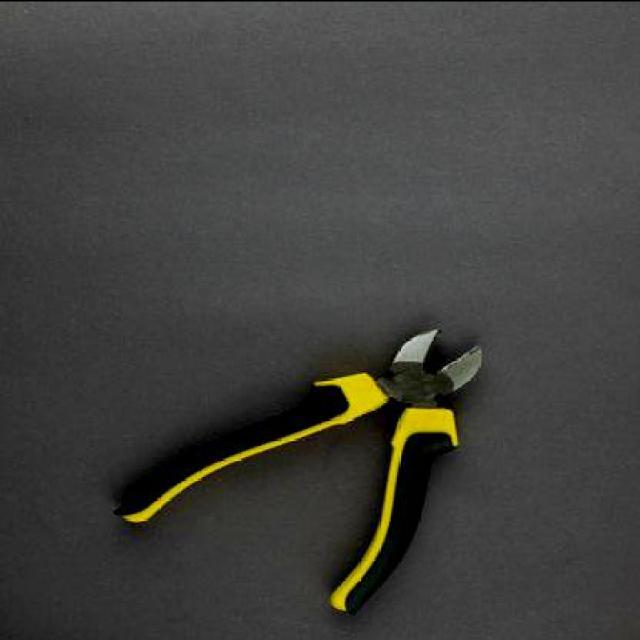pliers: (111, 317, 494, 612)
